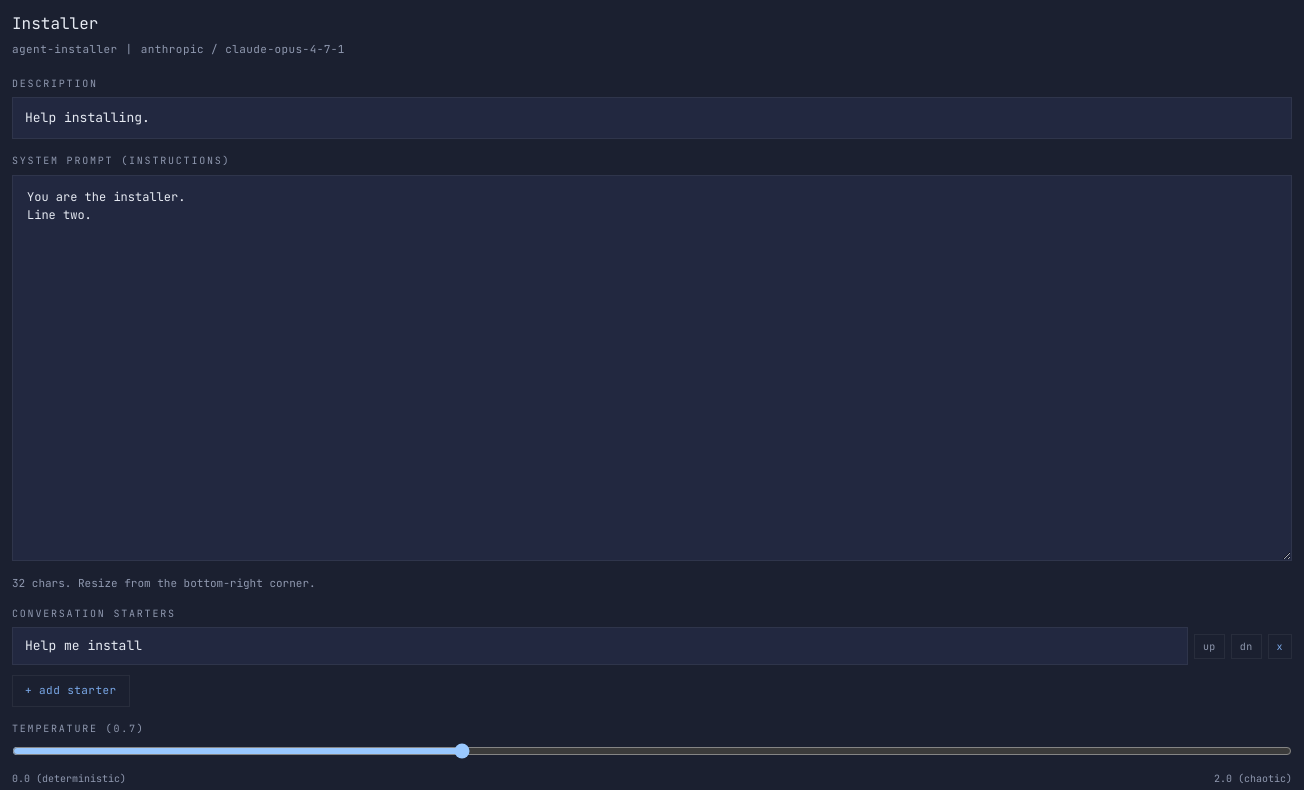
Test: AgentEditor › lets the operator add and remove conversation starters
The image size is (1304, 790).
Expected: the number of fields named "Conversation starter" is 1, [12,627,1188,665]
Click the button "+ add starter": x=71, y=691 [12,676,130,706]
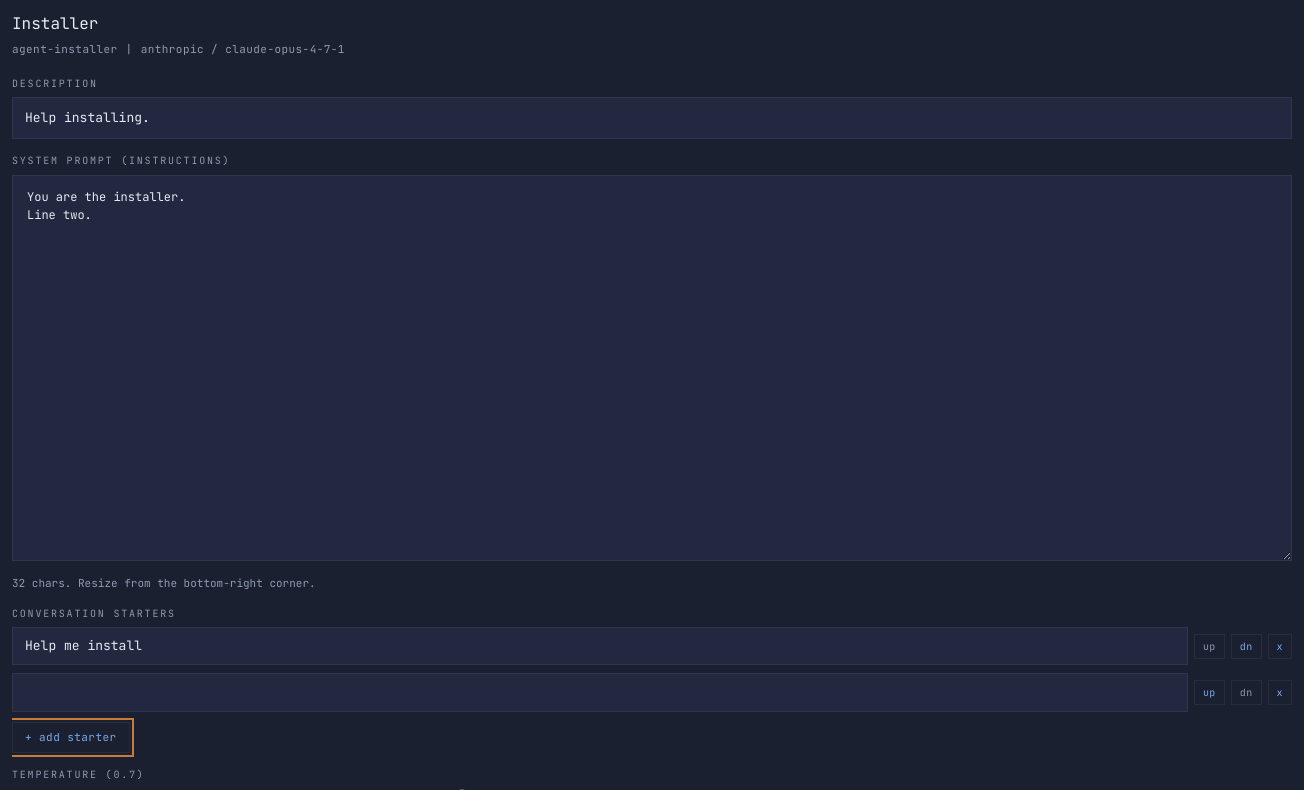
Expected: the number of fields named "Conversation starter" is 2, [12,627,1188,665]; [12,674,1188,712]
Click the button named "Remove starter 2": x=1280, y=693 [1268,680,1292,705]
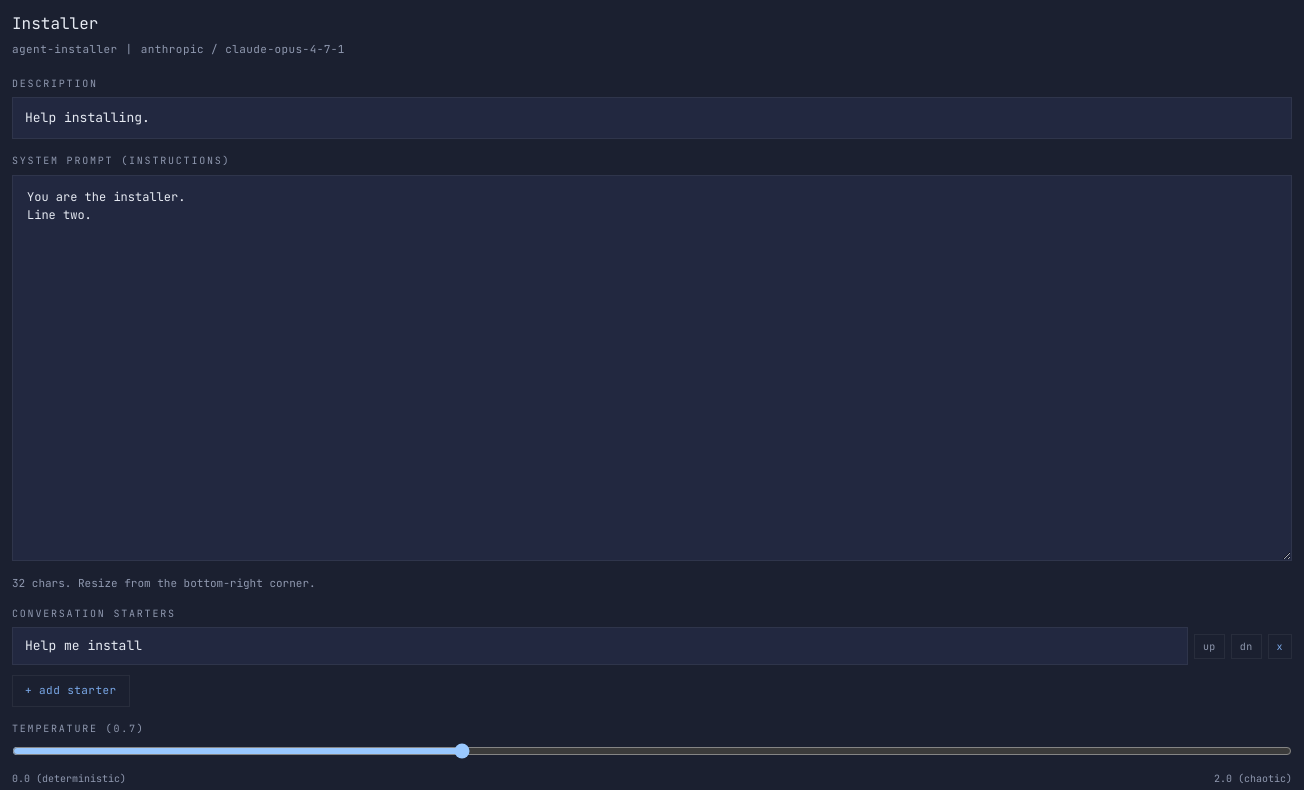
Expected: the number of fields named "Conversation starter" is 1, [12,627,1188,665]
